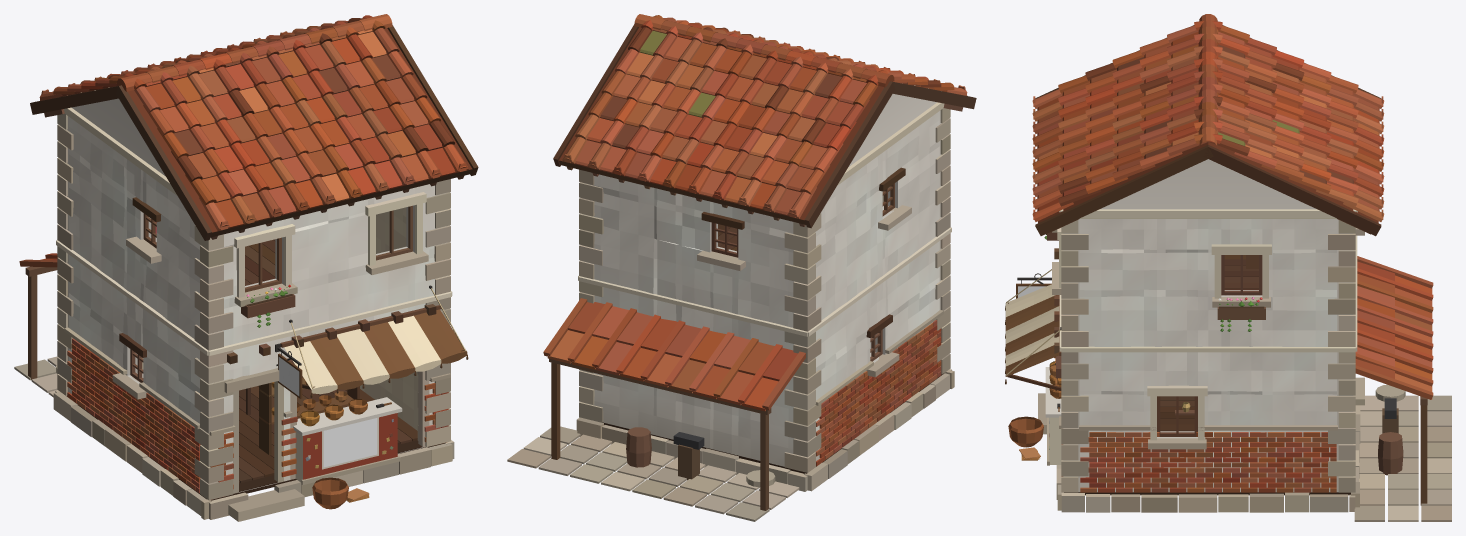
Rendered from artisan_2_2.glb.
3 renders of one model, left to right at view 1: azimuth 30°, elevation 25°; view 2: azimuth 150°, elevation 25°; view 3: azimuth 270°, elevation 25°, orthographic. The views are drawn at different scales.
Visible parts, largest first — view 1: House, Walls, Rooms; view 2: House, Walls; view 3: House, Walls, Rooms.
Boxes of the visible parts, box(x1,y1,x2,y2) form: House: box(14, 14, 478, 521); Walls: box(67, 98, 447, 492); Rooms: box(142, 207, 418, 483); House: box(507, 14, 976, 521); Walls: box(582, 94, 941, 466); House: box(1005, 14, 1451, 521); Walls: box(1063, 159, 1352, 492); Rooms: box(1160, 255, 1258, 431).
Size of the model in its own units: 4.28 by 5.58 by 6.01.
Materials: 7 (7 with a texture image).
